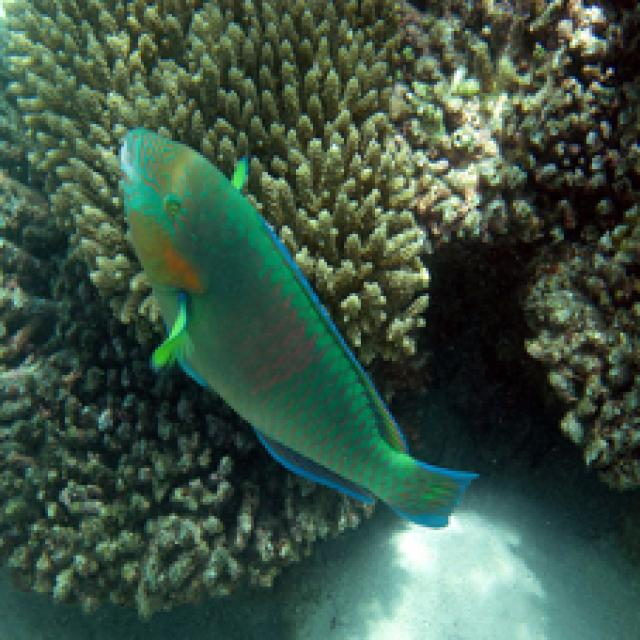Healthy: (7, 1, 421, 365), (1, 215, 370, 613), (376, 1, 635, 238), (525, 221, 638, 486)
